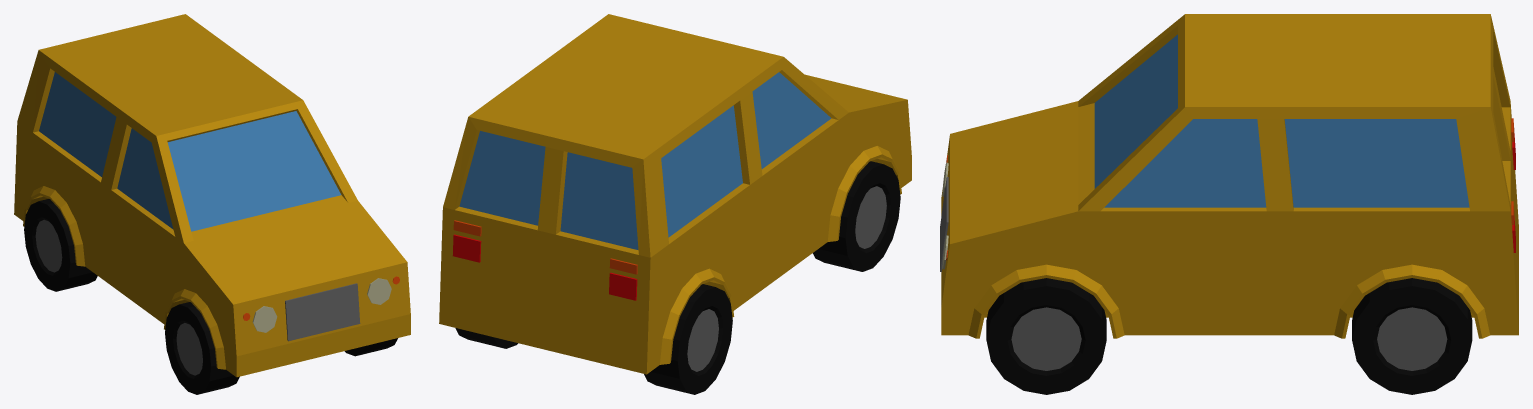
Rendered from car-microtransport-citrus.obj.
3 views of the same model, side by side, from view 1: azimuth 30°, elevation 25°; view 2: azimuth 150°, elevation 25°; view 3: azimuth 270°, elevation 25° (orthographic). The views are drawn at different scales.
Parts seen in each view (by area): view 1: car-microtransport-citrus_Cube.588_carmaterial_citrus, car-microtransport-citrus_Cube.588_windows, car-microtransport-citrus_Cube.588_tires, car-microtransport-citrus_Cube.588_metal, car-microtransport-citrus_Cube.588_lights; view 2: car-microtransport-citrus_Cube.588_carmaterial_citrus, car-microtransport-citrus_Cube.588_windows, car-microtransport-citrus_Cube.588_tires, car-microtransport-citrus_Cube.588_metal, car-microtransport-citrus_Cube.588_lights.red, car-microtransport-citrus_Cube.588_lights.orange; view 3: car-microtransport-citrus_Cube.588_carmaterial_citrus, car-microtransport-citrus_Cube.588_windows, car-microtransport-citrus_Cube.588_tires, car-microtransport-citrus_Cube.588_metal.
Part boxes in pixels (left/top/right/bottom): car-microtransport-citrus_Cube.588_carmaterial_citrus: left=14, top=14, right=410, bottom=377; car-microtransport-citrus_Cube.588_windows: left=39, top=72, right=341, bottom=231; car-microtransport-citrus_Cube.588_tires: left=24, top=199, right=397, bottom=394; car-microtransport-citrus_Cube.588_metal: left=35, top=219, right=360, bottom=375; car-microtransport-citrus_Cube.588_lights: left=252, top=278, right=391, bottom=332; car-microtransport-citrus_Cube.588_carmaterial_citrus: left=439, top=14, right=911, bottom=374; car-microtransport-citrus_Cube.588_windows: left=459, top=72, right=831, bottom=249; car-microtransport-citrus_Cube.588_tires: left=455, top=161, right=900, bottom=394; car-microtransport-citrus_Cube.588_metal: left=687, top=186, right=886, bottom=371; car-microtransport-citrus_Cube.588_lights.red: left=452, top=234, right=637, bottom=300; car-microtransport-citrus_Cube.588_lights.orange: left=453, top=220, right=637, bottom=274; car-microtransport-citrus_Cube.588_carmaterial_citrus: left=941, top=14, right=1518, bottom=338; car-microtransport-citrus_Cube.588_windows: left=1094, top=34, right=1469, bottom=207; car-microtransport-citrus_Cube.588_tires: left=986, top=278, right=1472, bottom=394; car-microtransport-citrus_Cube.588_metal: left=940, top=177, right=1447, bottom=370.
Size of the model in its own units: 0.8967 by 0.9513 by 1.82.
